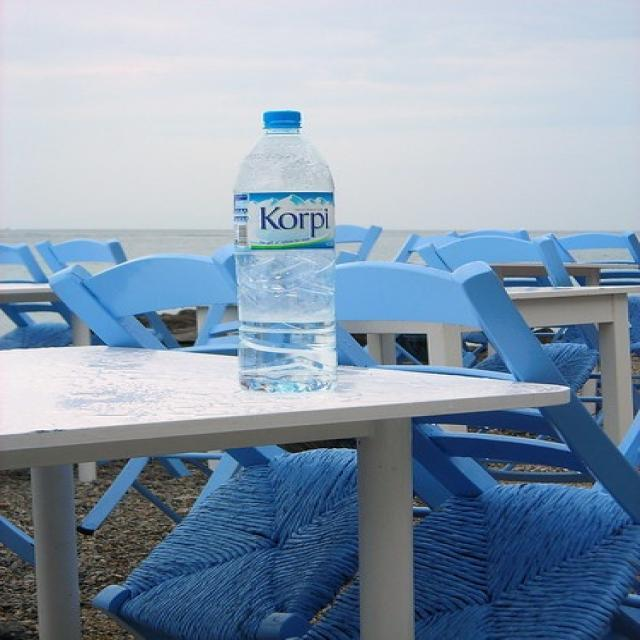plastic_bottle: (232, 109, 338, 394)
